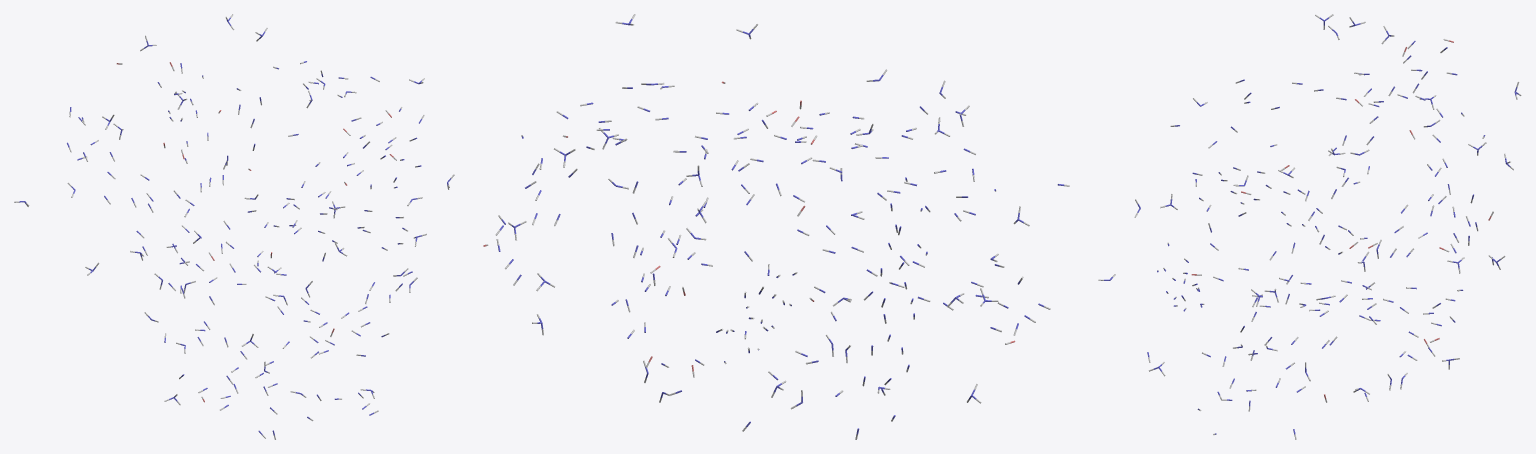
The model's file is 1mbn__lines__default__H.glb.
3 views of the same model, side by side, from view 1: azimuth 30°, elevation 25°; view 2: azimuth 150°, elevation 25°; view 3: azimuth 270°, elevation 25° (orthographic). The views are drawn at different scales.
Visible parts, largest first — view 1: Renderer Node; view 2: Renderer Node; view 3: Renderer Node.
Boxes of the visible parts, x1,y1,x2,y2 form: Renderer Node: (14,14,454,439); Renderer Node: (483,14,1069,439); Renderer Node: (1098,14,1521,439).
Bounding box in the file's own units: 42.29 × 39.59 × 38.58.
